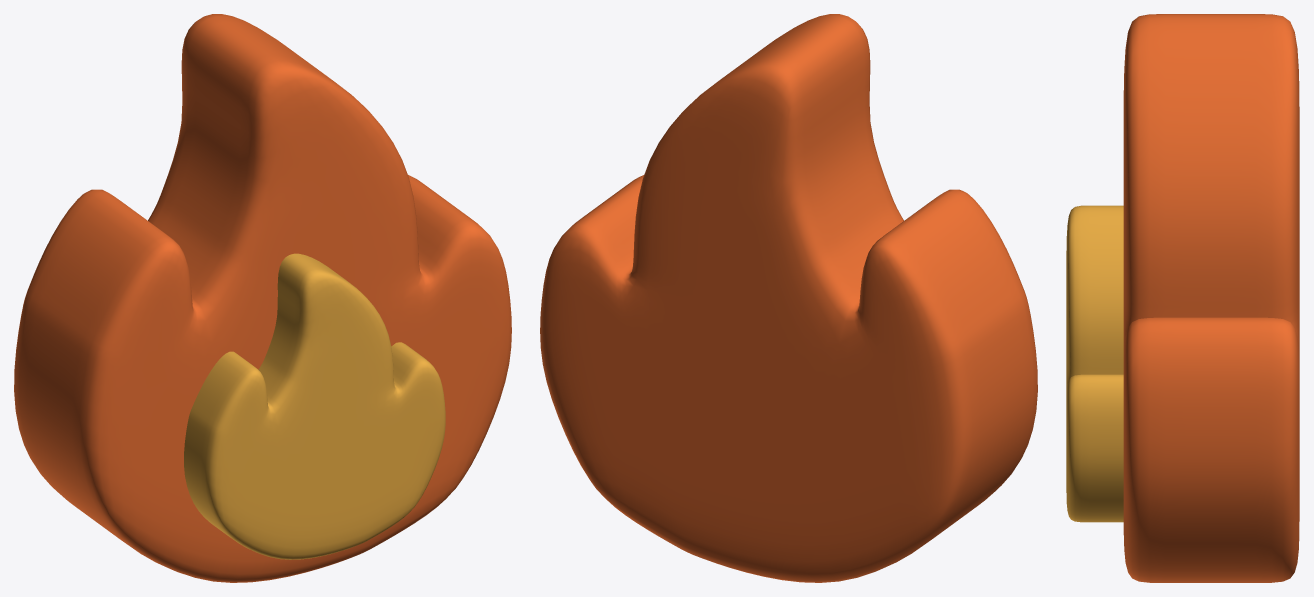
File: fire.glb
The picture shows the model from 3 angles, left to right: view 1: azimuth 30°, elevation 25°; view 2: azimuth 150°, elevation 25°; view 3: azimuth 270°, elevation 25°; orthographic projection.
Visible parts, largest first — view 1: 0012; view 2: 0012; view 3: 0012.
Boxes of the visible parts, x1,y1,x2,y2 form: 0012: (14, 14, 511, 582); 0012: (540, 14, 1037, 582); 0012: (1066, 14, 1299, 582).
Size of the model in its own units: 1.75 by 2.02 by 0.8135.
